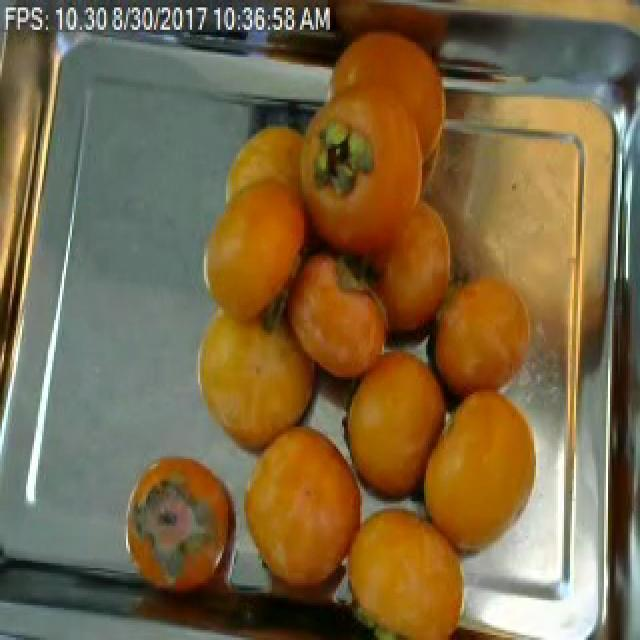Fruit: (230, 399, 384, 618), (408, 375, 546, 583), (180, 293, 338, 471), (334, 332, 462, 521), (330, 488, 484, 640), (114, 442, 244, 608), (274, 236, 402, 397)
